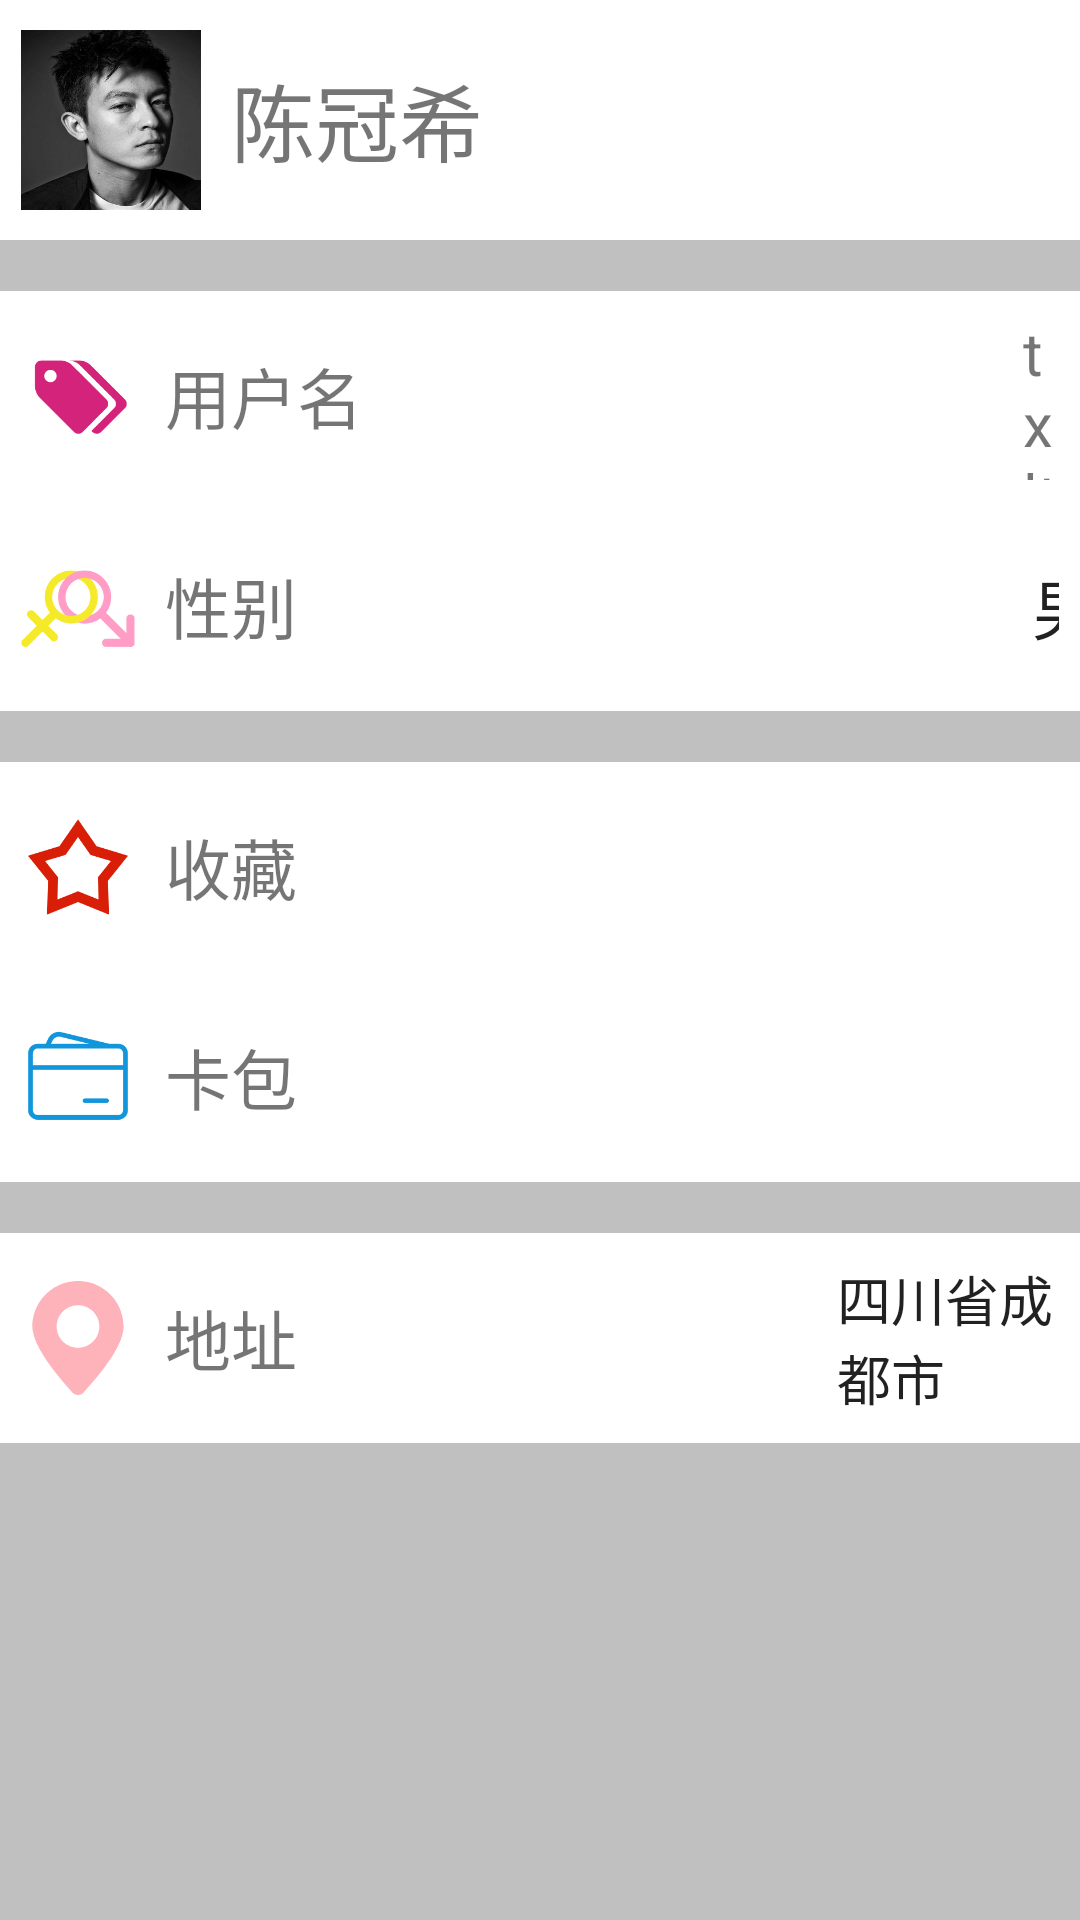

Locate icon controls on the screen. Image size 1080*1920, boxes as (x1, y1, x2, y2).
address: (32, 1281, 124, 1395)
cards: (28, 1031, 128, 1120)
sex: (21, 570, 135, 647)
star: (28, 819, 128, 915)
